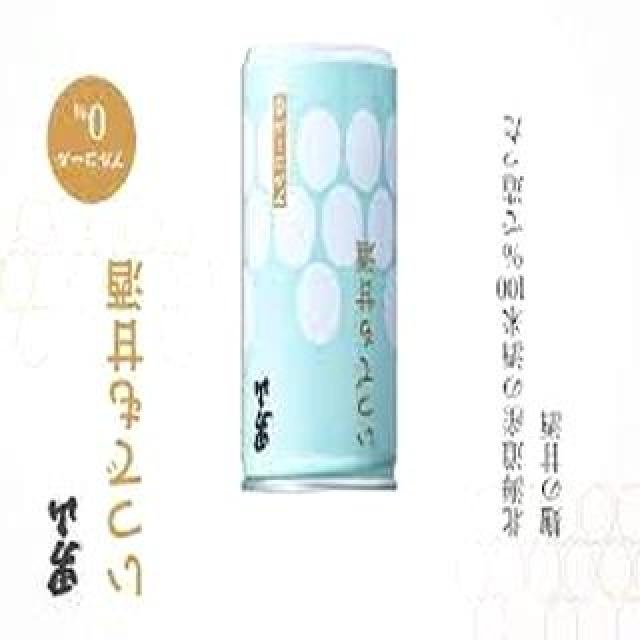Can: (224, 37, 418, 501)
